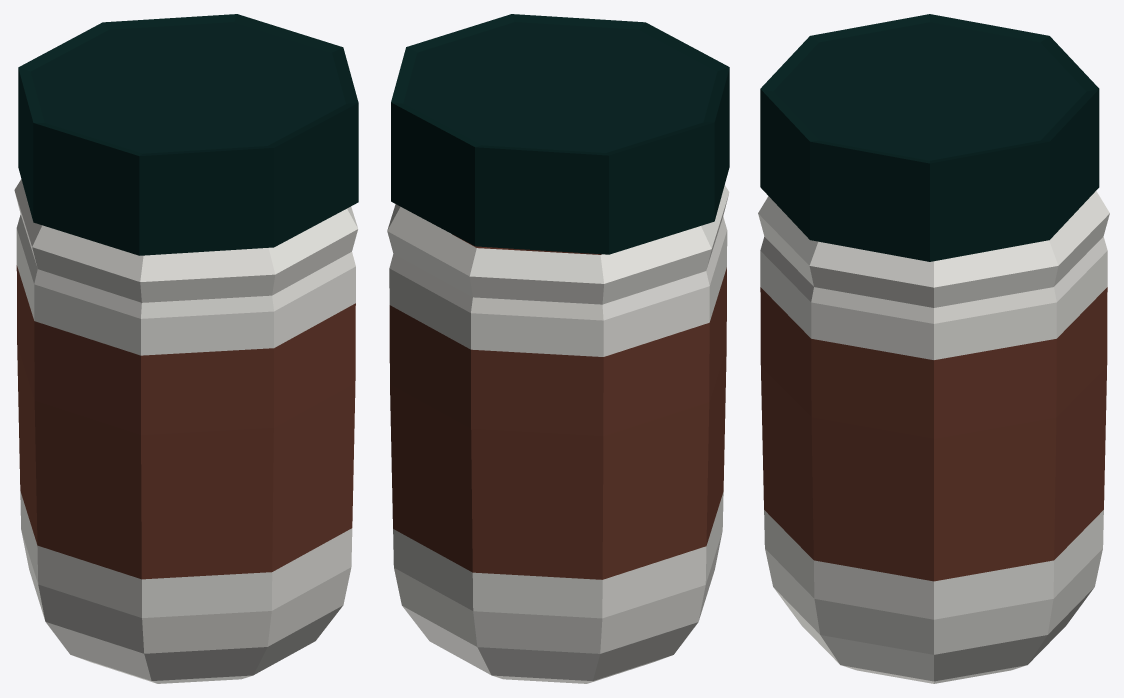
File: coconut-oil.fbx
3 views of the same model, side by side, from view 1: azimuth 30°, elevation 25°; view 2: azimuth 150°, elevation 25°; view 3: azimuth 270°, elevation 25° (orthographic).
Visible parts, largest first — view 1: Cylinder.001; view 2: Cylinder.001; view 3: Cylinder.001.
Boxes of the visible parts, x1,y1,x2,y2 form: Cylinder.001: (14,14,358,683); Cylinder.001: (387,14,729,683); Cylinder.001: (758,14,1109,683).
Size of the model in its own units: 313 by 536 by 312.
